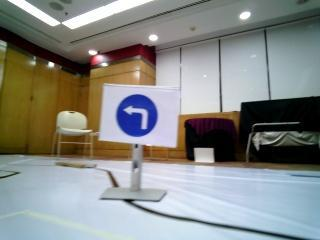left: (105, 87, 178, 144)
